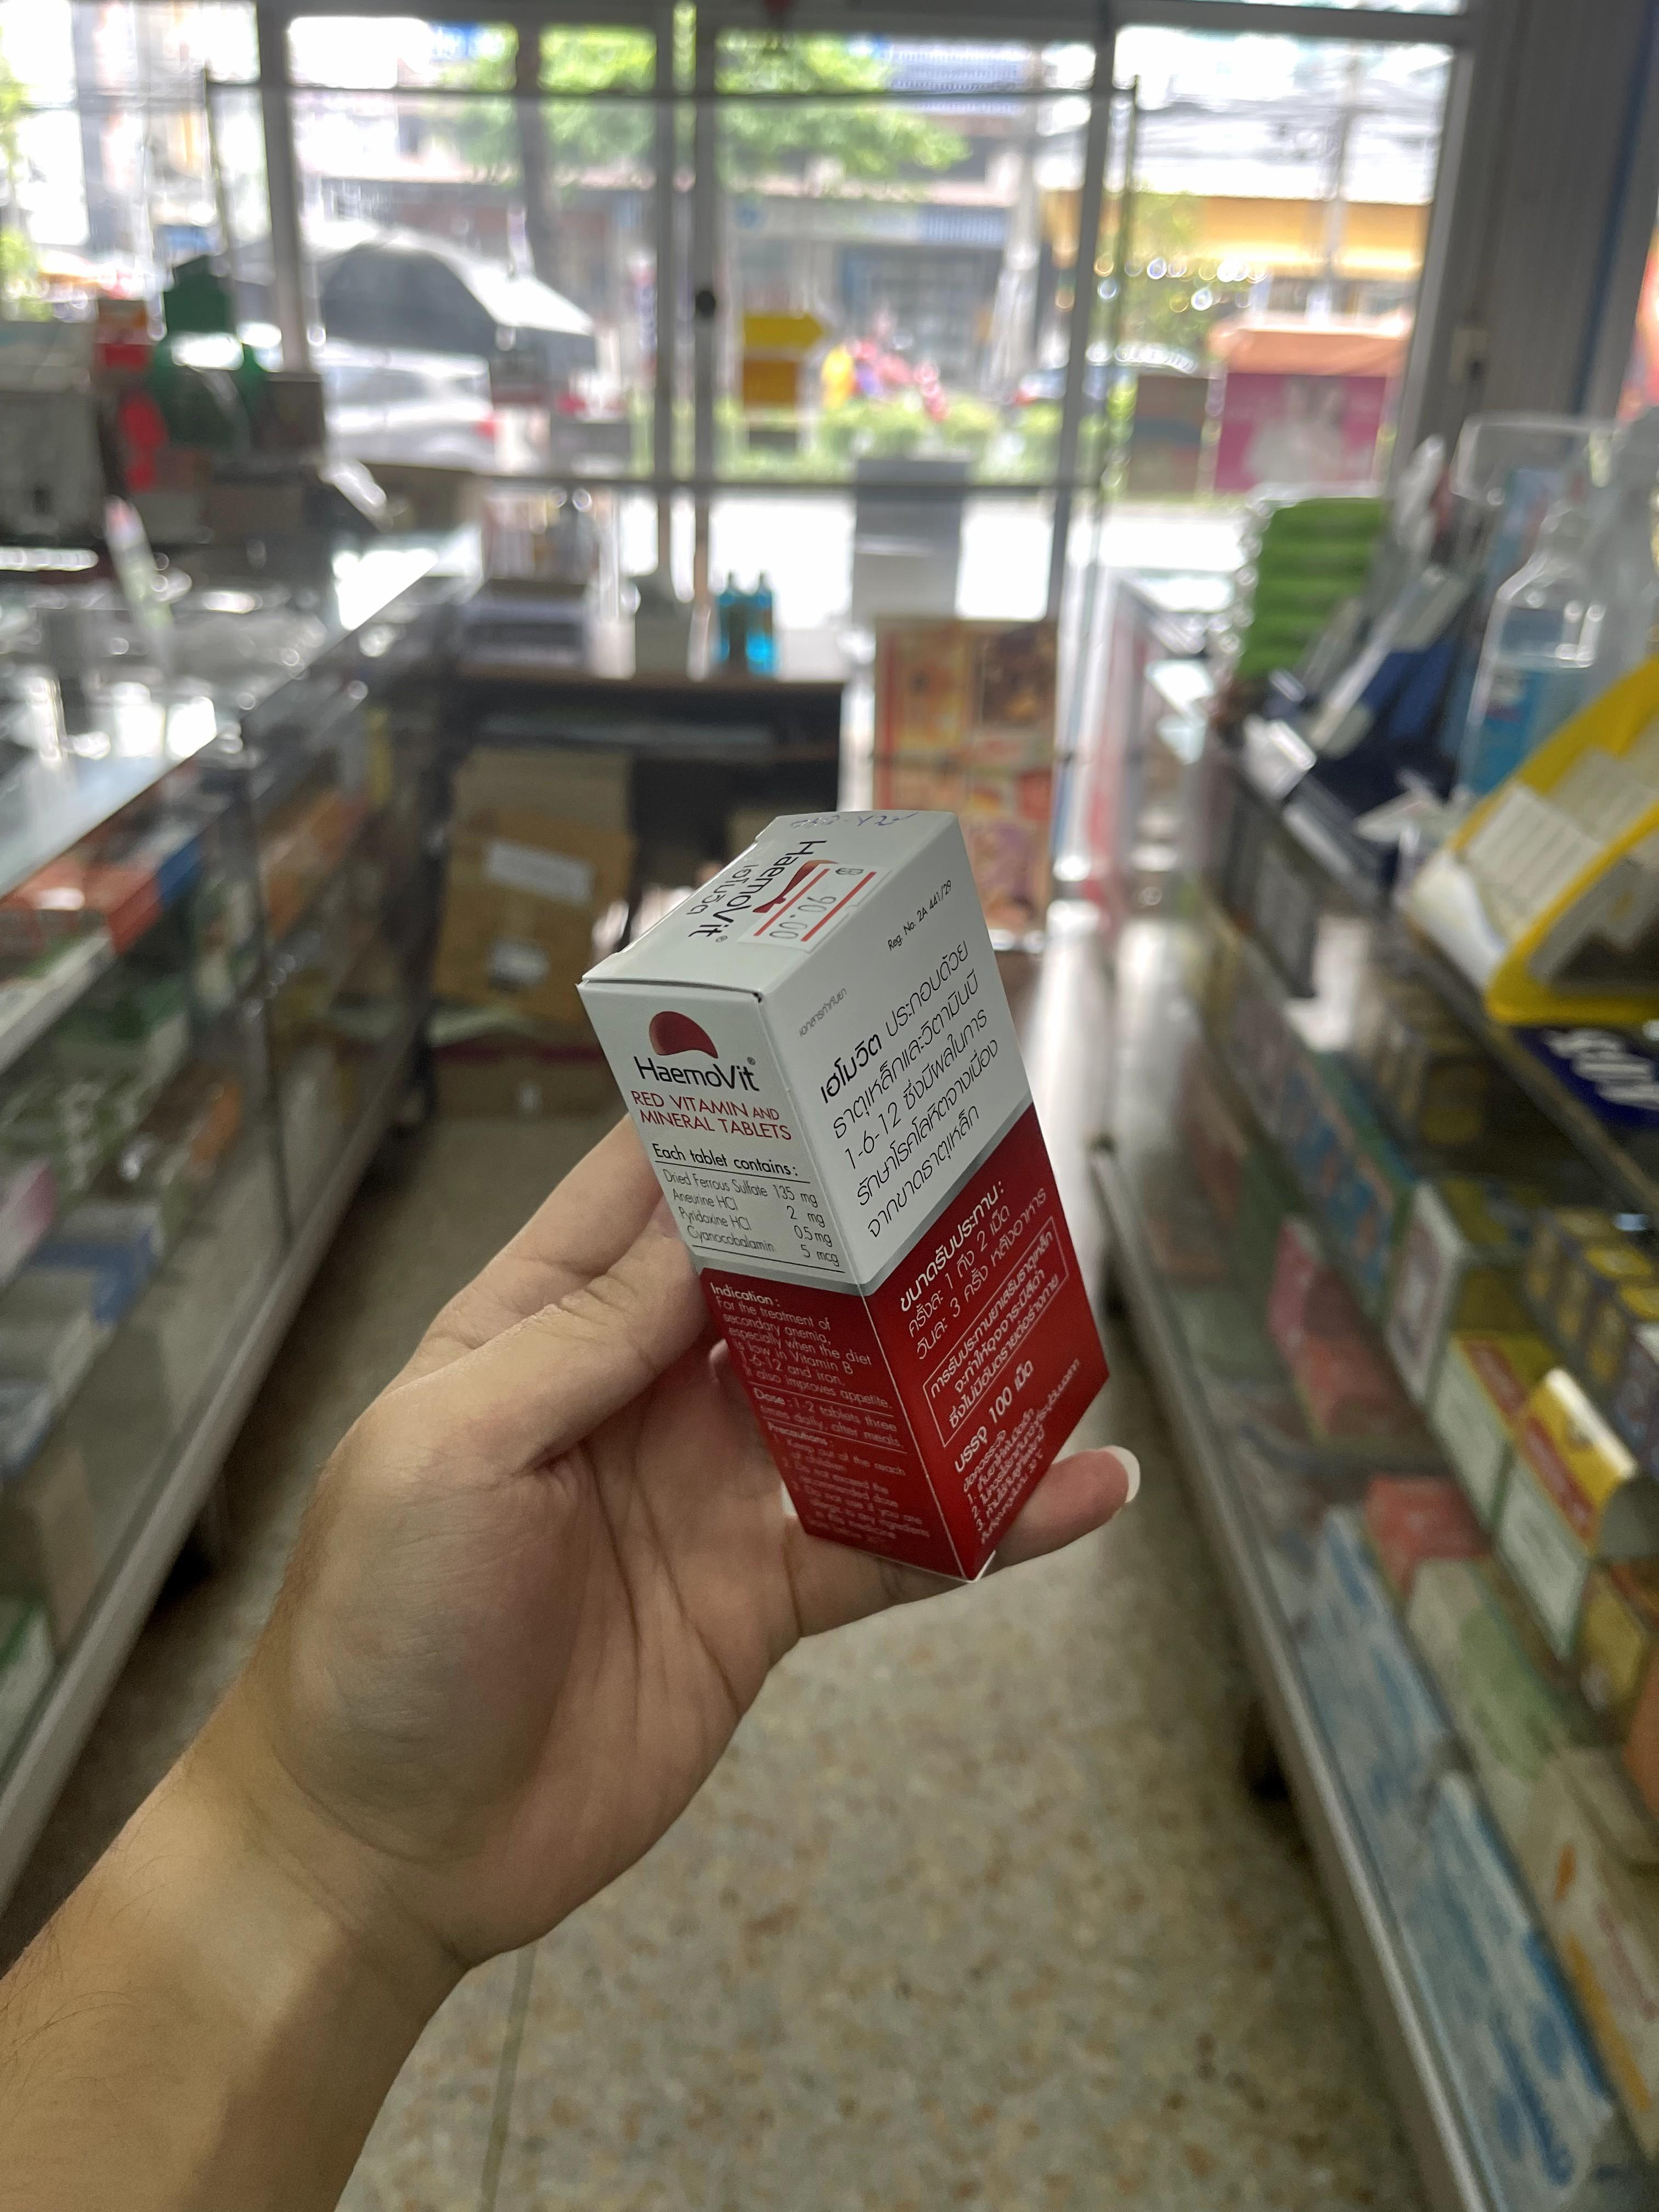Heamovit: (584, 810, 1119, 1588)
